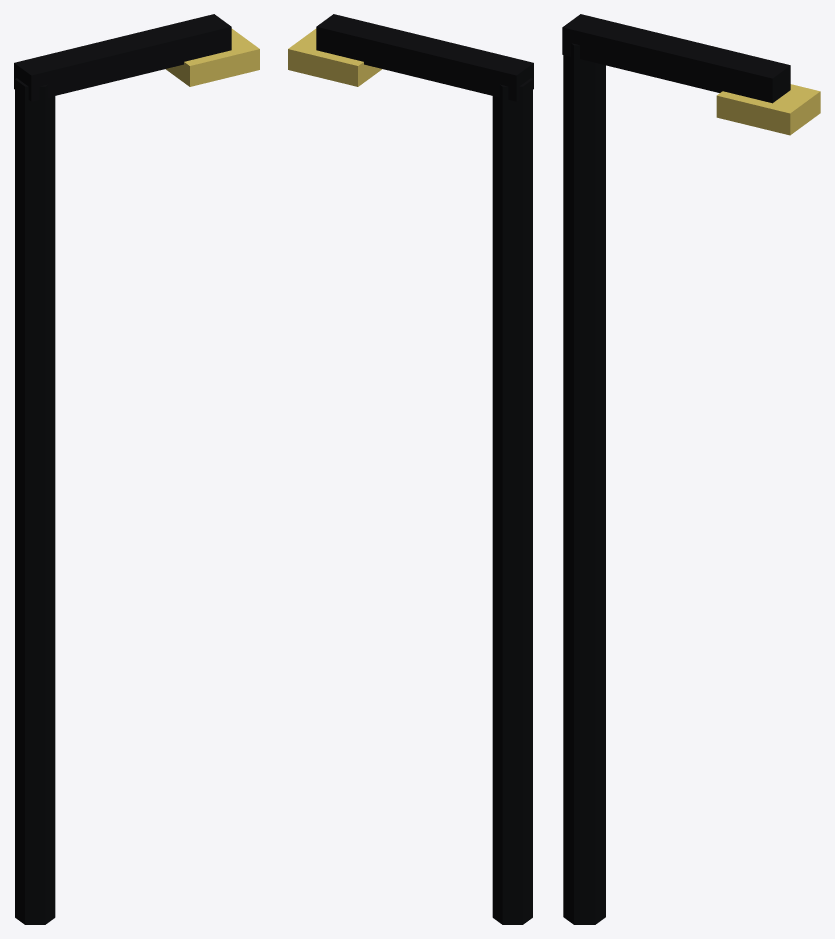
File: lamp.glb
3 views of the same model, side by side, from view 1: azimuth 30°, elevation 25°; view 2: azimuth 150°, elevation 25°; view 3: azimuth 330°, elevation 25° (orthographic). The views are drawn at different scales.
Parts seen in each view (by area): view 1: lamp; view 2: lamp; view 3: lamp.
Boxes of the visible parts, x1,y1,x2,y2 form: lamp: (14,14,259,924); lamp: (288,14,533,924); lamp: (562,14,820,924).
Bounding box in the file's own units: 0.9006 × 3.25 × 0.2.
